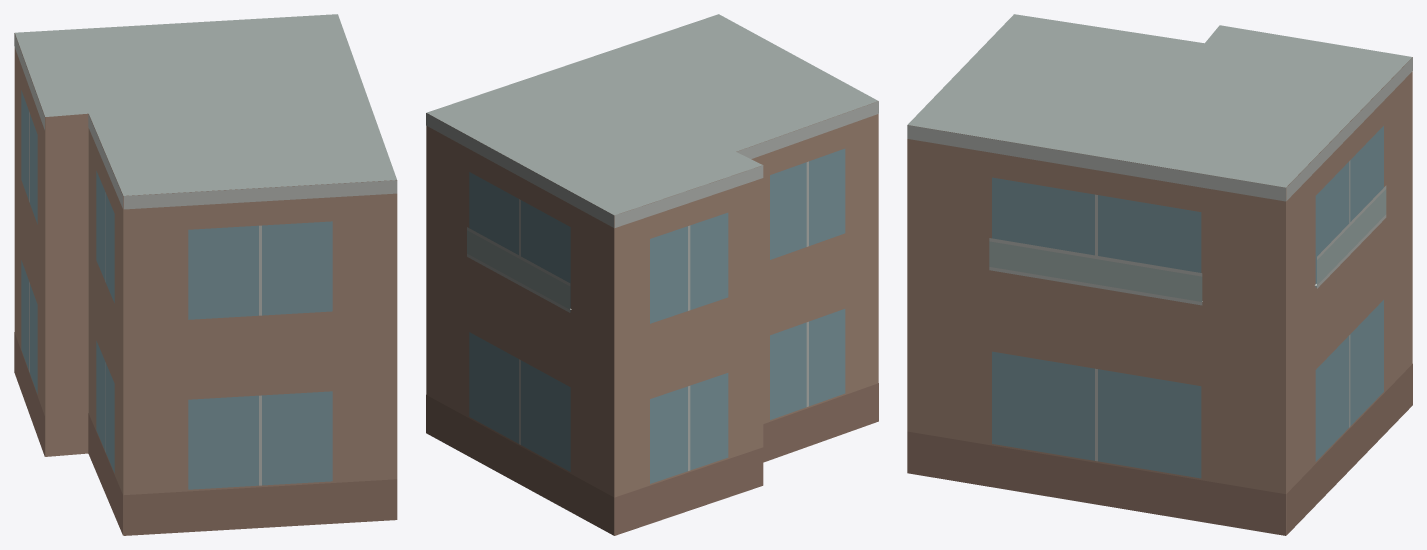
File: survey-upis-32553863.glb
3 views of the same model, side by side, from view 1: azimuth 30°, elevation 25°; view 2: azimuth 150°, elevation 25°; view 3: azimuth 270°, elevation 25° (orthographic). The views are drawn at different scales.
Parts seen in each view (by area): view 1: survey-upis-32553863.tmp; view 2: survey-upis-32553863.tmp; view 3: survey-upis-32553863.tmp.
Boxes of the visible parts, box(x1,y1,x2,y2) form: survey-upis-32553863.tmp: box(14, 14, 397, 535); survey-upis-32553863.tmp: box(426, 14, 878, 535); survey-upis-32553863.tmp: box(907, 14, 1412, 535).
Bounding box in the file's own units: 6.53 × 6.1 × 8.03.
